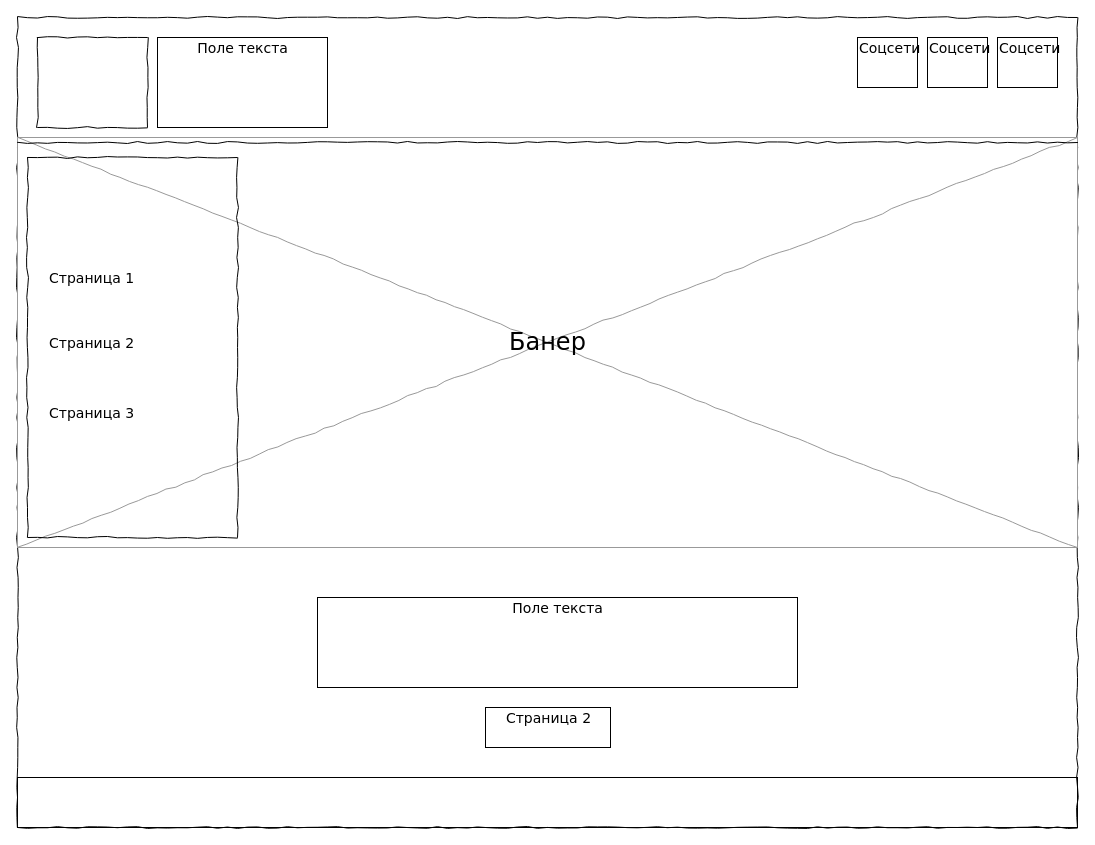
Image size: 1095x845. Some labels were removed from this diagram. Here are the shapes that lost their labels. From the top down, the centre of each, then its label:
At pixel 92 82: "Логотип".
At pixel 547 802: "Подвал".
